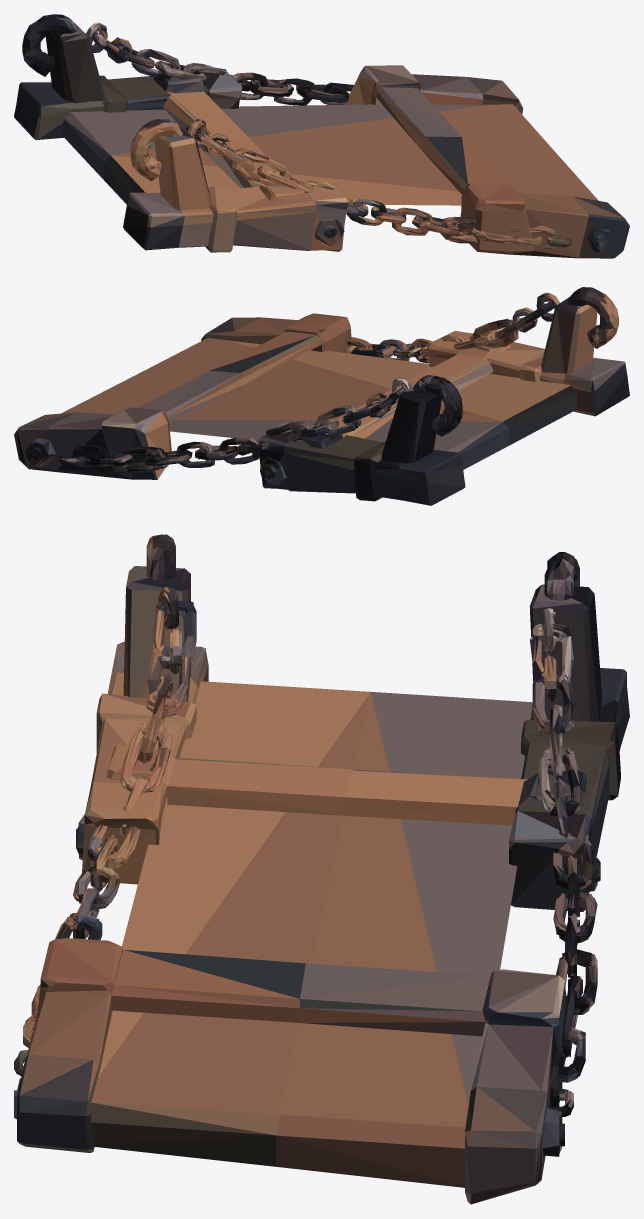
File: Drawbridge.glb
3 views of the same model, one above another, from view 1: azimuth 30°, elevation 25°; view 2: azimuth 150°, elevation 25°; view 3: azimuth 270°, elevation 25° (orthographic). The views are drawn at different scales.
Parts seen in each view (by area): view 1: world; view 2: world; view 3: world.
Boxes of the visible parts, x1,y1,x2,y2 form: world: (14,14,629,258); world: (14,287,629,505); world: (14,534,629,1204).
Size of the model in its own units: 0.5762 by 0.2461 by 0.4082.
